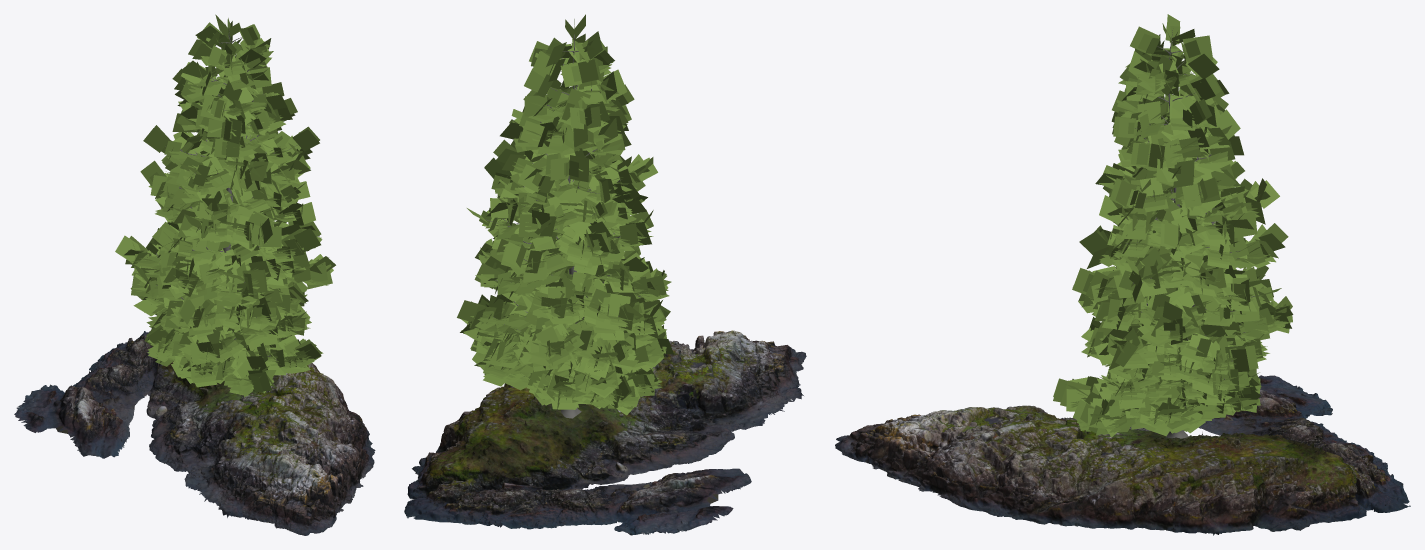
File: island-tree.glb
The picture shows the model from 3 angles, left to right: view 1: azimuth 30°, elevation 25°; view 2: azimuth 150°, elevation 25°; view 3: azimuth 270°, elevation 25°; orthographic projection. The views are drawn at different scales.
Visible parts, largest first — view 1: Rocky Island Ocean Coast Photoscan.001; view 2: Rocky Island Ocean Coast Photoscan.001; view 3: Rocky Island Ocean Coast Photoscan.001.
Part boxes in pixels (x1,y1,x2,y2): Rocky Island Ocean Coast Photoscan.001: (14,14,375,535); Rocky Island Ocean Coast Photoscan.001: (404,14,806,535); Rocky Island Ocean Coast Photoscan.001: (835,14,1410,535).
Bounding box in the file's own units: 16.74 × 23.17 × 26.52.
3 materials, 3 textured.
